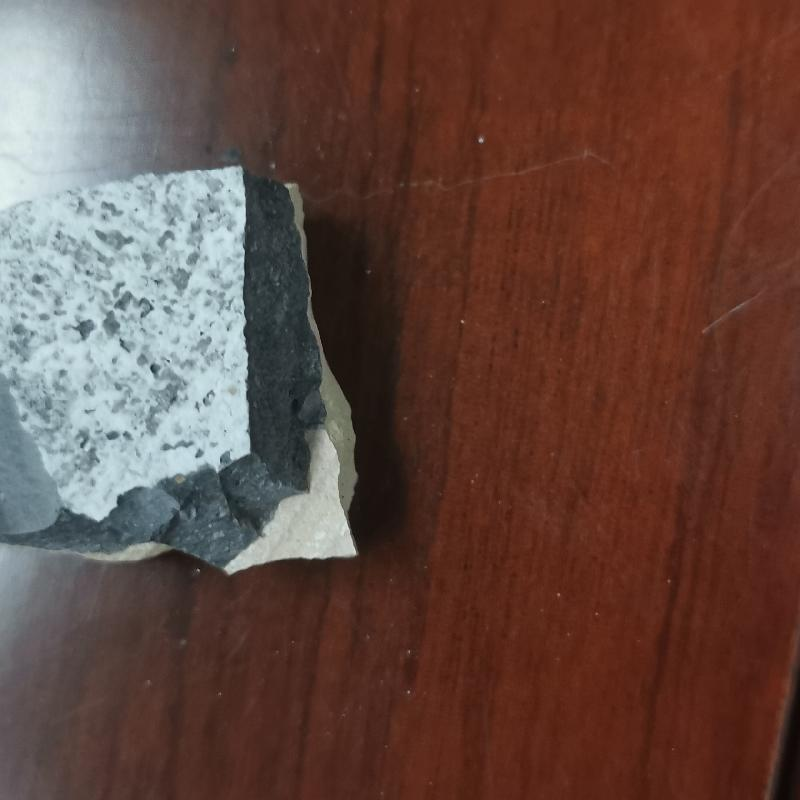tile: (6, 164, 364, 577)
